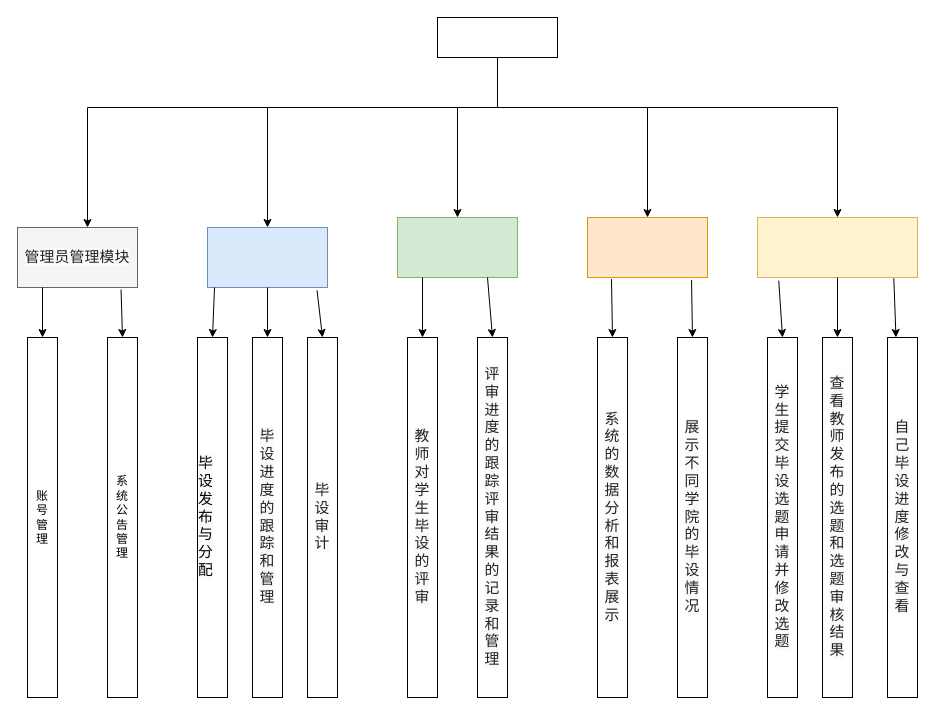
Image size: 935x715. Some labels were removed from this diagram. Here are the shapes that lost their labels. From the top down, the centre of each, then its label:
At (x=497, y=37): "GDM-system".
At (x=267, y=257): "毕设管理模块".
At (x=457, y=247): "评审管理模块".
At (x=647, y=247): "统计报表模块".
At (x=837, y=247): "学生选题模块".
